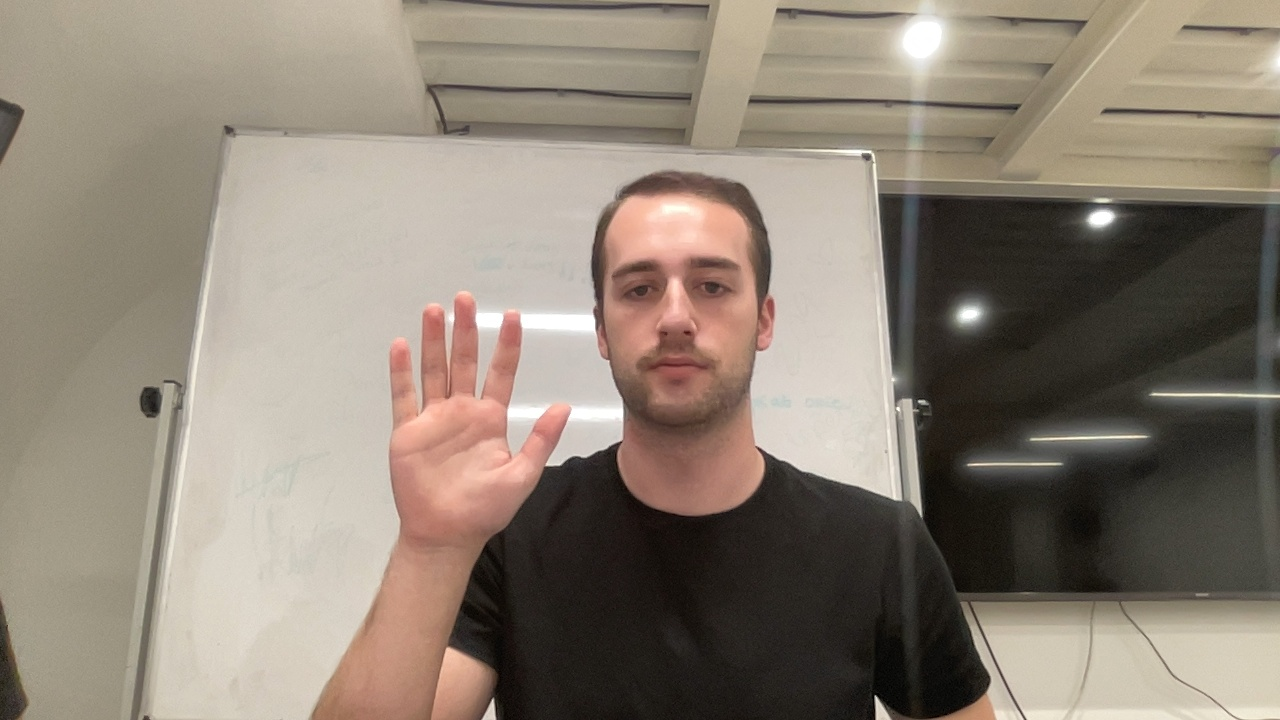Hello: (385, 284, 578, 555)
